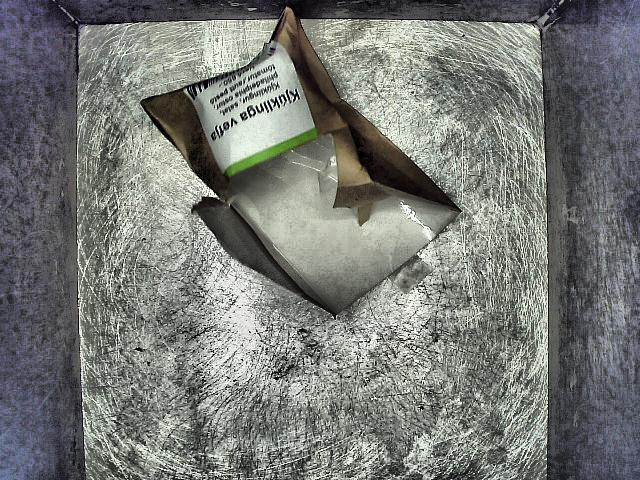Paper: (136, 1, 466, 319)
